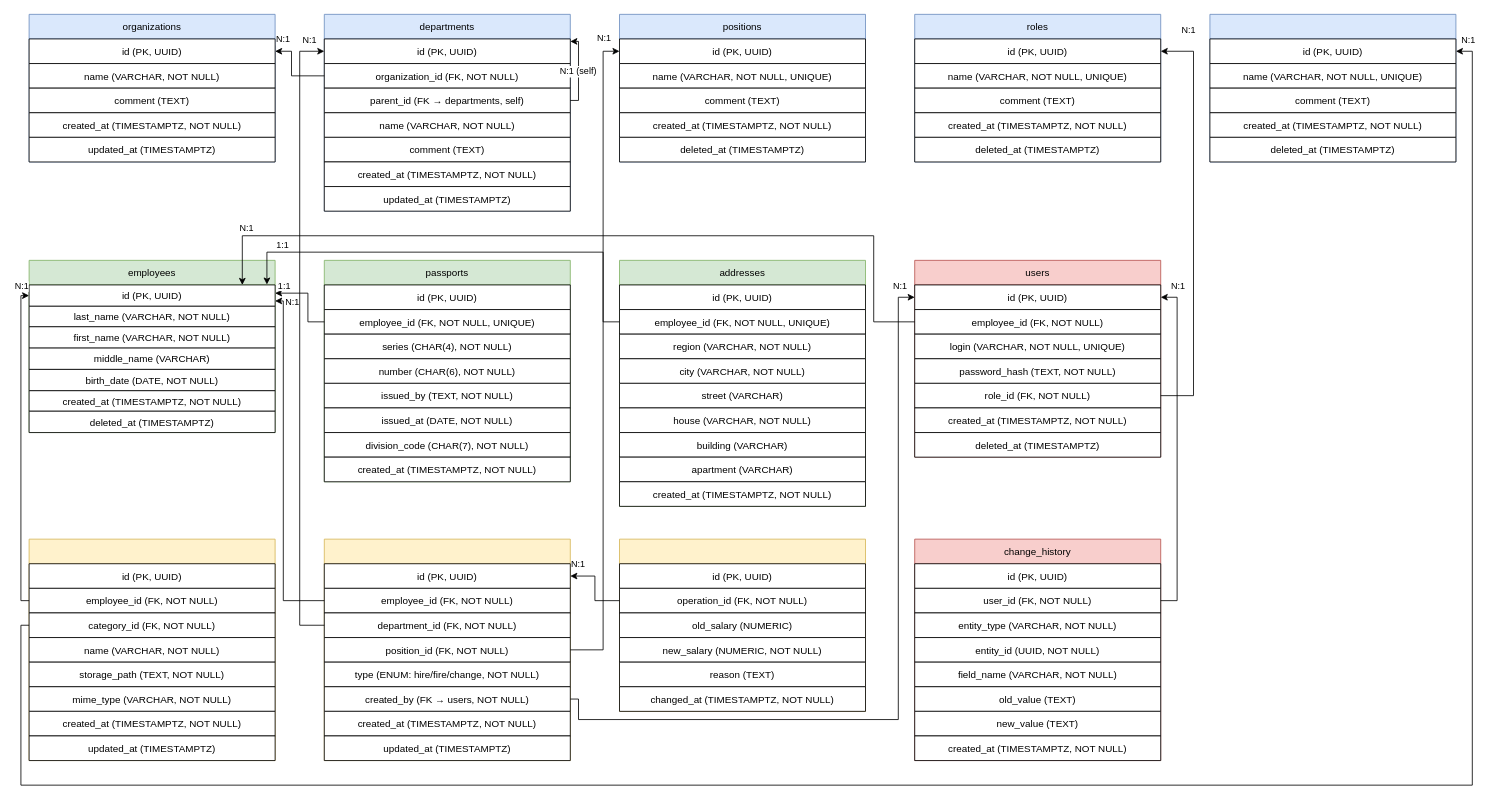
Image size: 1493x806. Some labels were removed from this diagram. Here are the shapes that lost their labels. From the top down, the box of each, then its label:
(1209, 14, 1456, 162): file_categories
(619, 538, 866, 711): salary_changes
(28, 538, 275, 761): files
(323, 538, 570, 761): hr_operations
